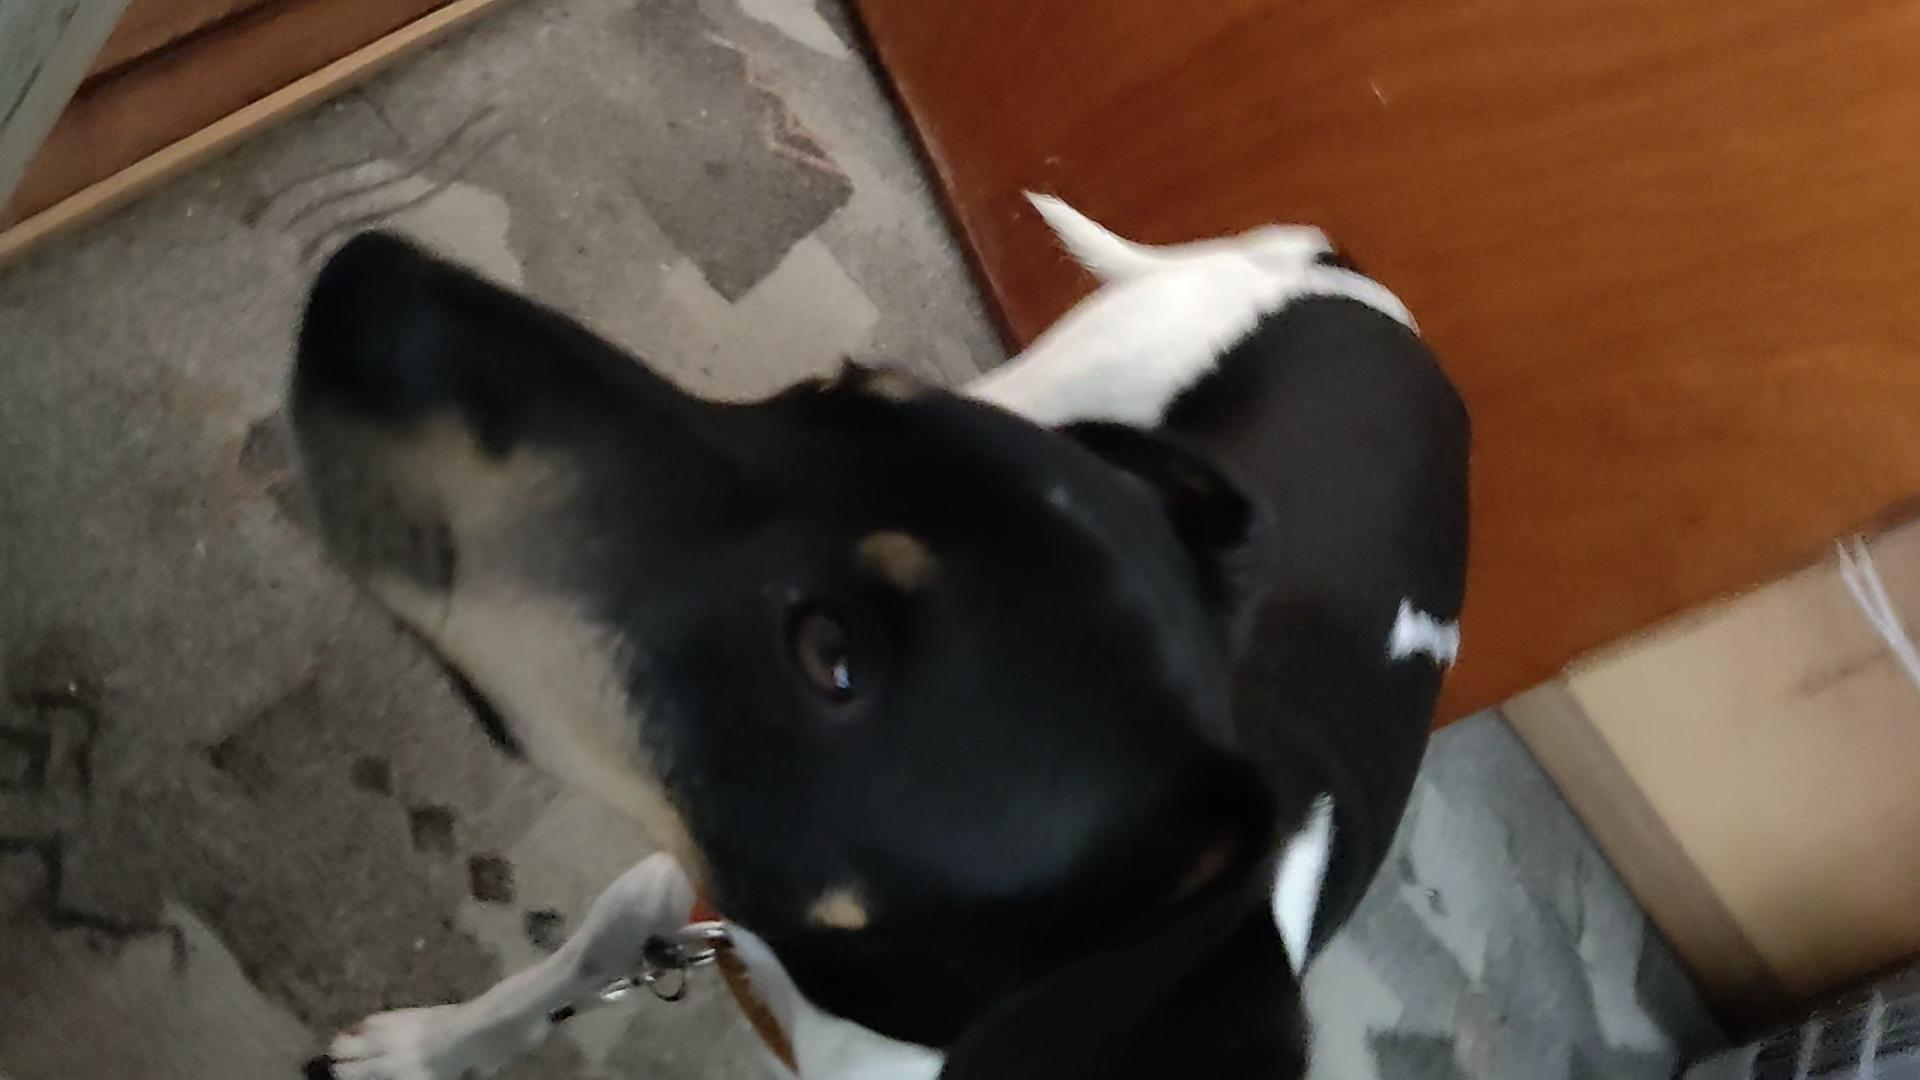Dog: (255, 133, 1516, 1079)
